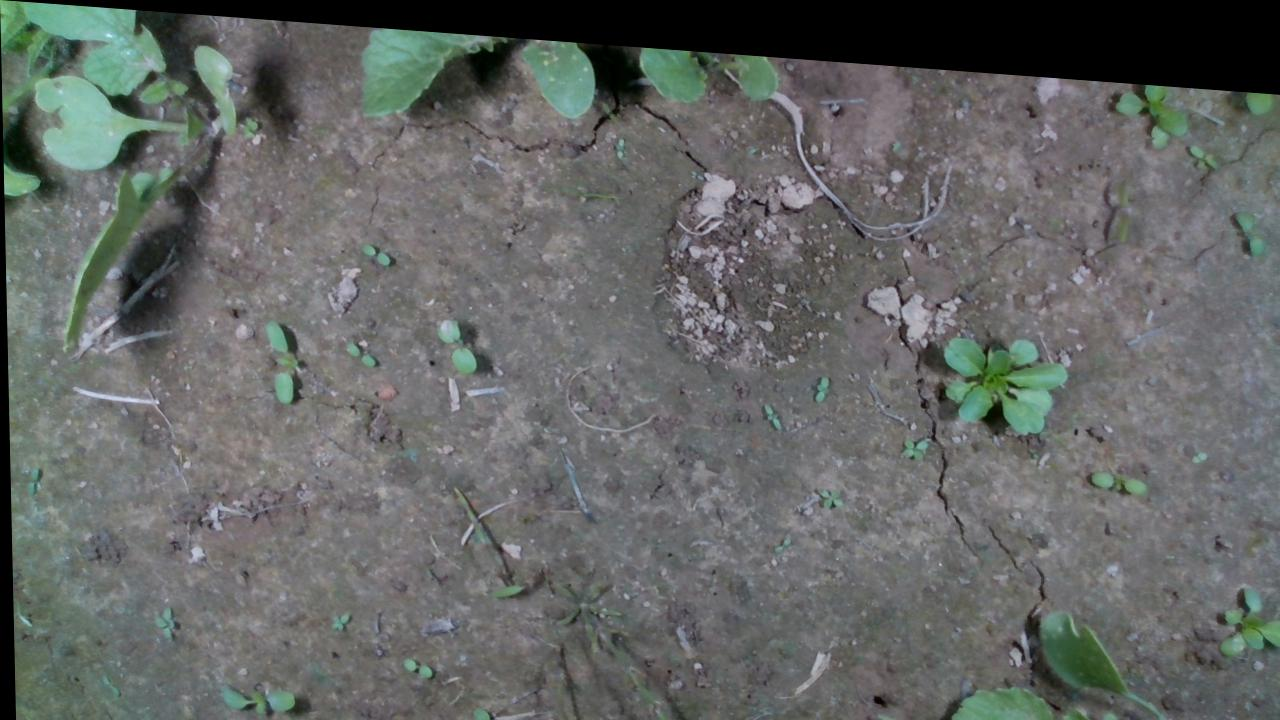weed: (214, 676, 294, 712), (262, 315, 294, 402), (430, 307, 475, 367), (1085, 450, 1147, 478), (1231, 188, 1265, 238), (340, 333, 375, 361), (146, 600, 172, 637), (1187, 122, 1219, 152), (812, 471, 842, 500), (897, 421, 927, 447), (358, 237, 389, 260), (398, 649, 429, 672), (758, 389, 781, 419), (768, 517, 792, 542), (809, 359, 827, 389), (325, 605, 348, 628), (1187, 430, 1207, 446)
